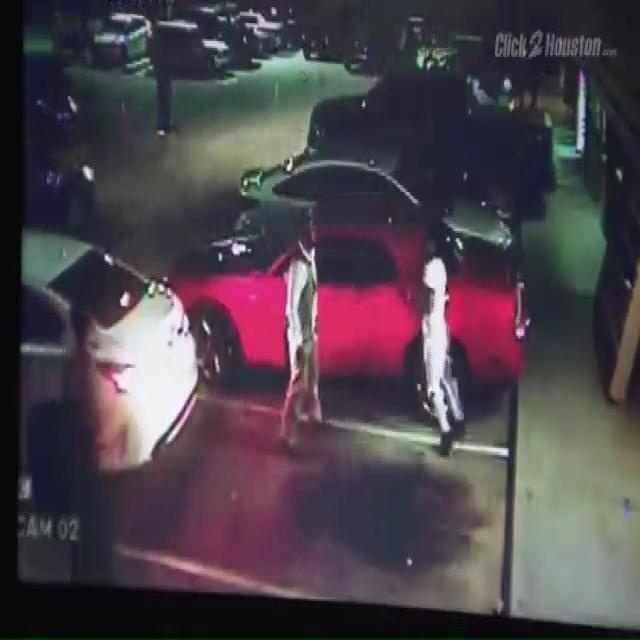fight: (278, 205, 466, 458)
